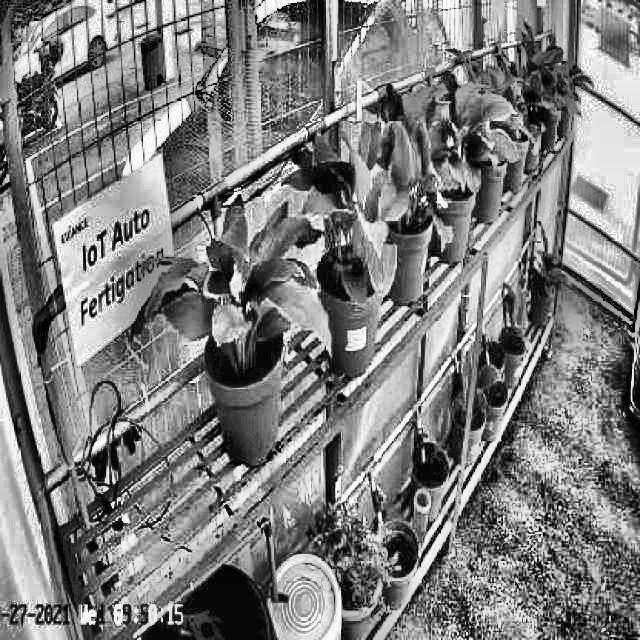plants: (133, 196, 330, 376), (294, 144, 398, 304), (349, 100, 451, 251), (410, 72, 528, 182)
